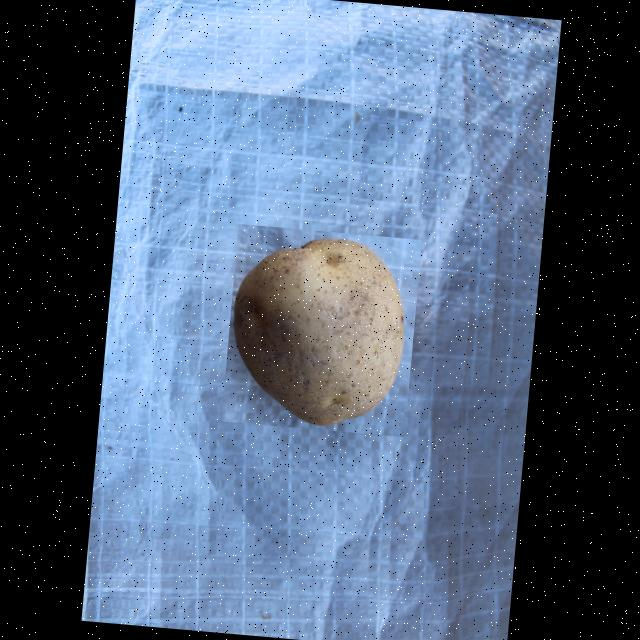Diseased-fungal potato: (220, 224, 420, 436)
